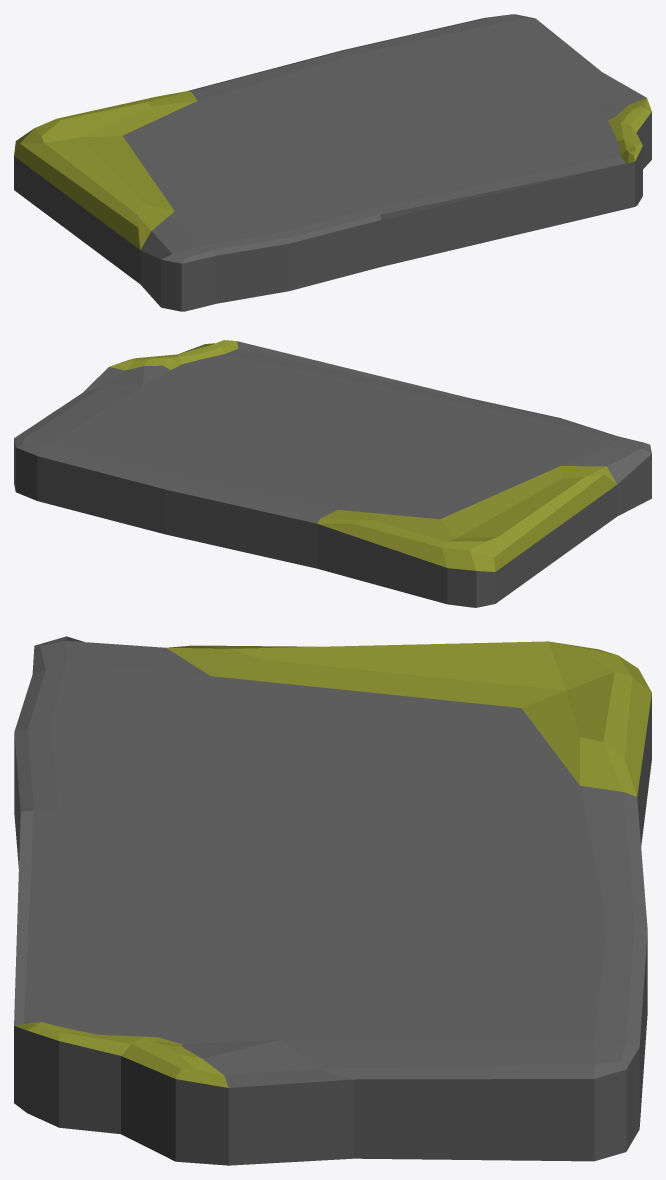
The model's file is tile_moss_type_3_LOD0.fbx.
3 renders of one model, top to bottom at view 1: azimuth 30°, elevation 25°; view 2: azimuth 150°, elevation 25°; view 3: azimuth 270°, elevation 25°, orthographic. The views are drawn at different scales.
Parts seen in each view (by area): view 1: tile_moss_type_3; view 2: tile_moss_type_3; view 3: tile_moss_type_3.
Boxes of the visible parts, bbox=[...] form: tile_moss_type_3: bbox=[14, 14, 651, 311]; tile_moss_type_3: bbox=[14, 340, 651, 607]; tile_moss_type_3: bbox=[14, 636, 651, 1165].
Size of the model in its own units: 199 by 22 by 120.
